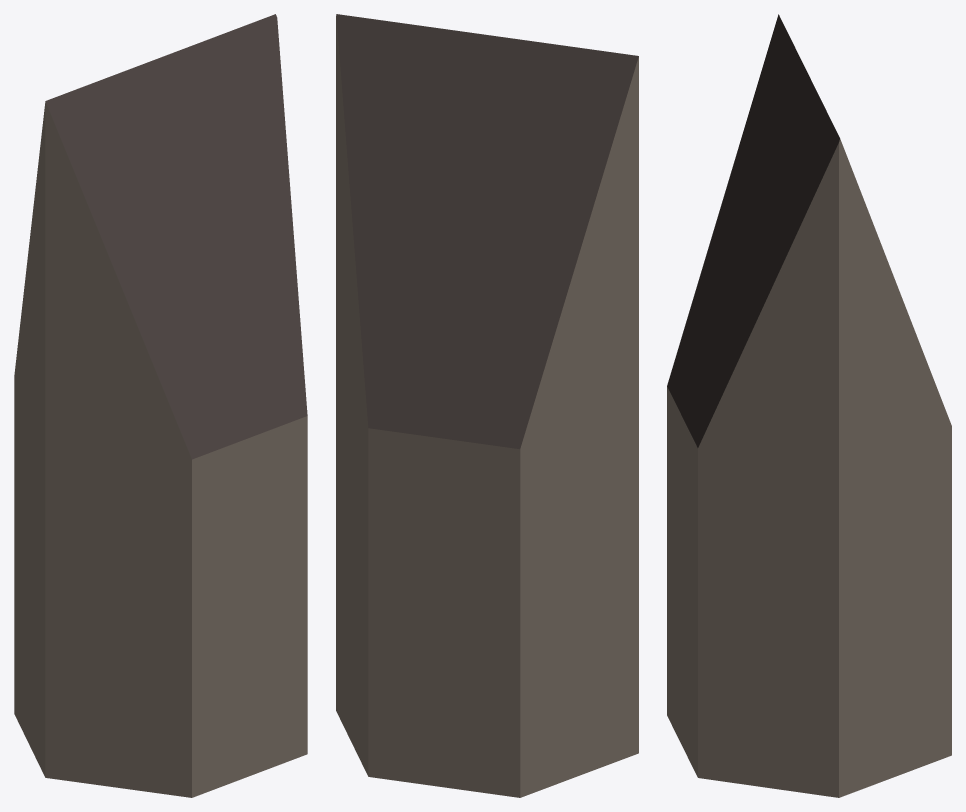
3 views of the same model, side by side, from view 1: azimuth 30°, elevation 25°; view 2: azimuth 150°, elevation 25°; view 3: azimuth 270°, elevation 25° (orthographic). The views are drawn at different scales.
Parts seen in each view (by area): view 1: HP-w428186470; view 2: HP-w428186470; view 3: HP-w428186470.
Boxes of the visible parts, x1=… form: HP-w428186470: x1=14, y1=14, x2=307, y2=797; HP-w428186470: x1=336, y1=14, x2=638, y2=797; HP-w428186470: x1=667, y1=14, x2=951, y2=797.
Bounding box in the file's own units: 2.44 × 6 × 2.35.
